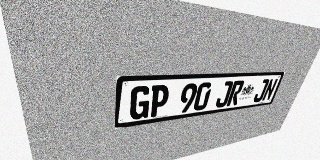0: (192, 82, 213, 111)
9: (178, 83, 199, 113)
G: (129, 85, 151, 120)
J: (214, 81, 234, 108), (252, 79, 270, 103)
N: (261, 78, 278, 101)
P: (148, 84, 170, 118)
R: (226, 80, 245, 106)
